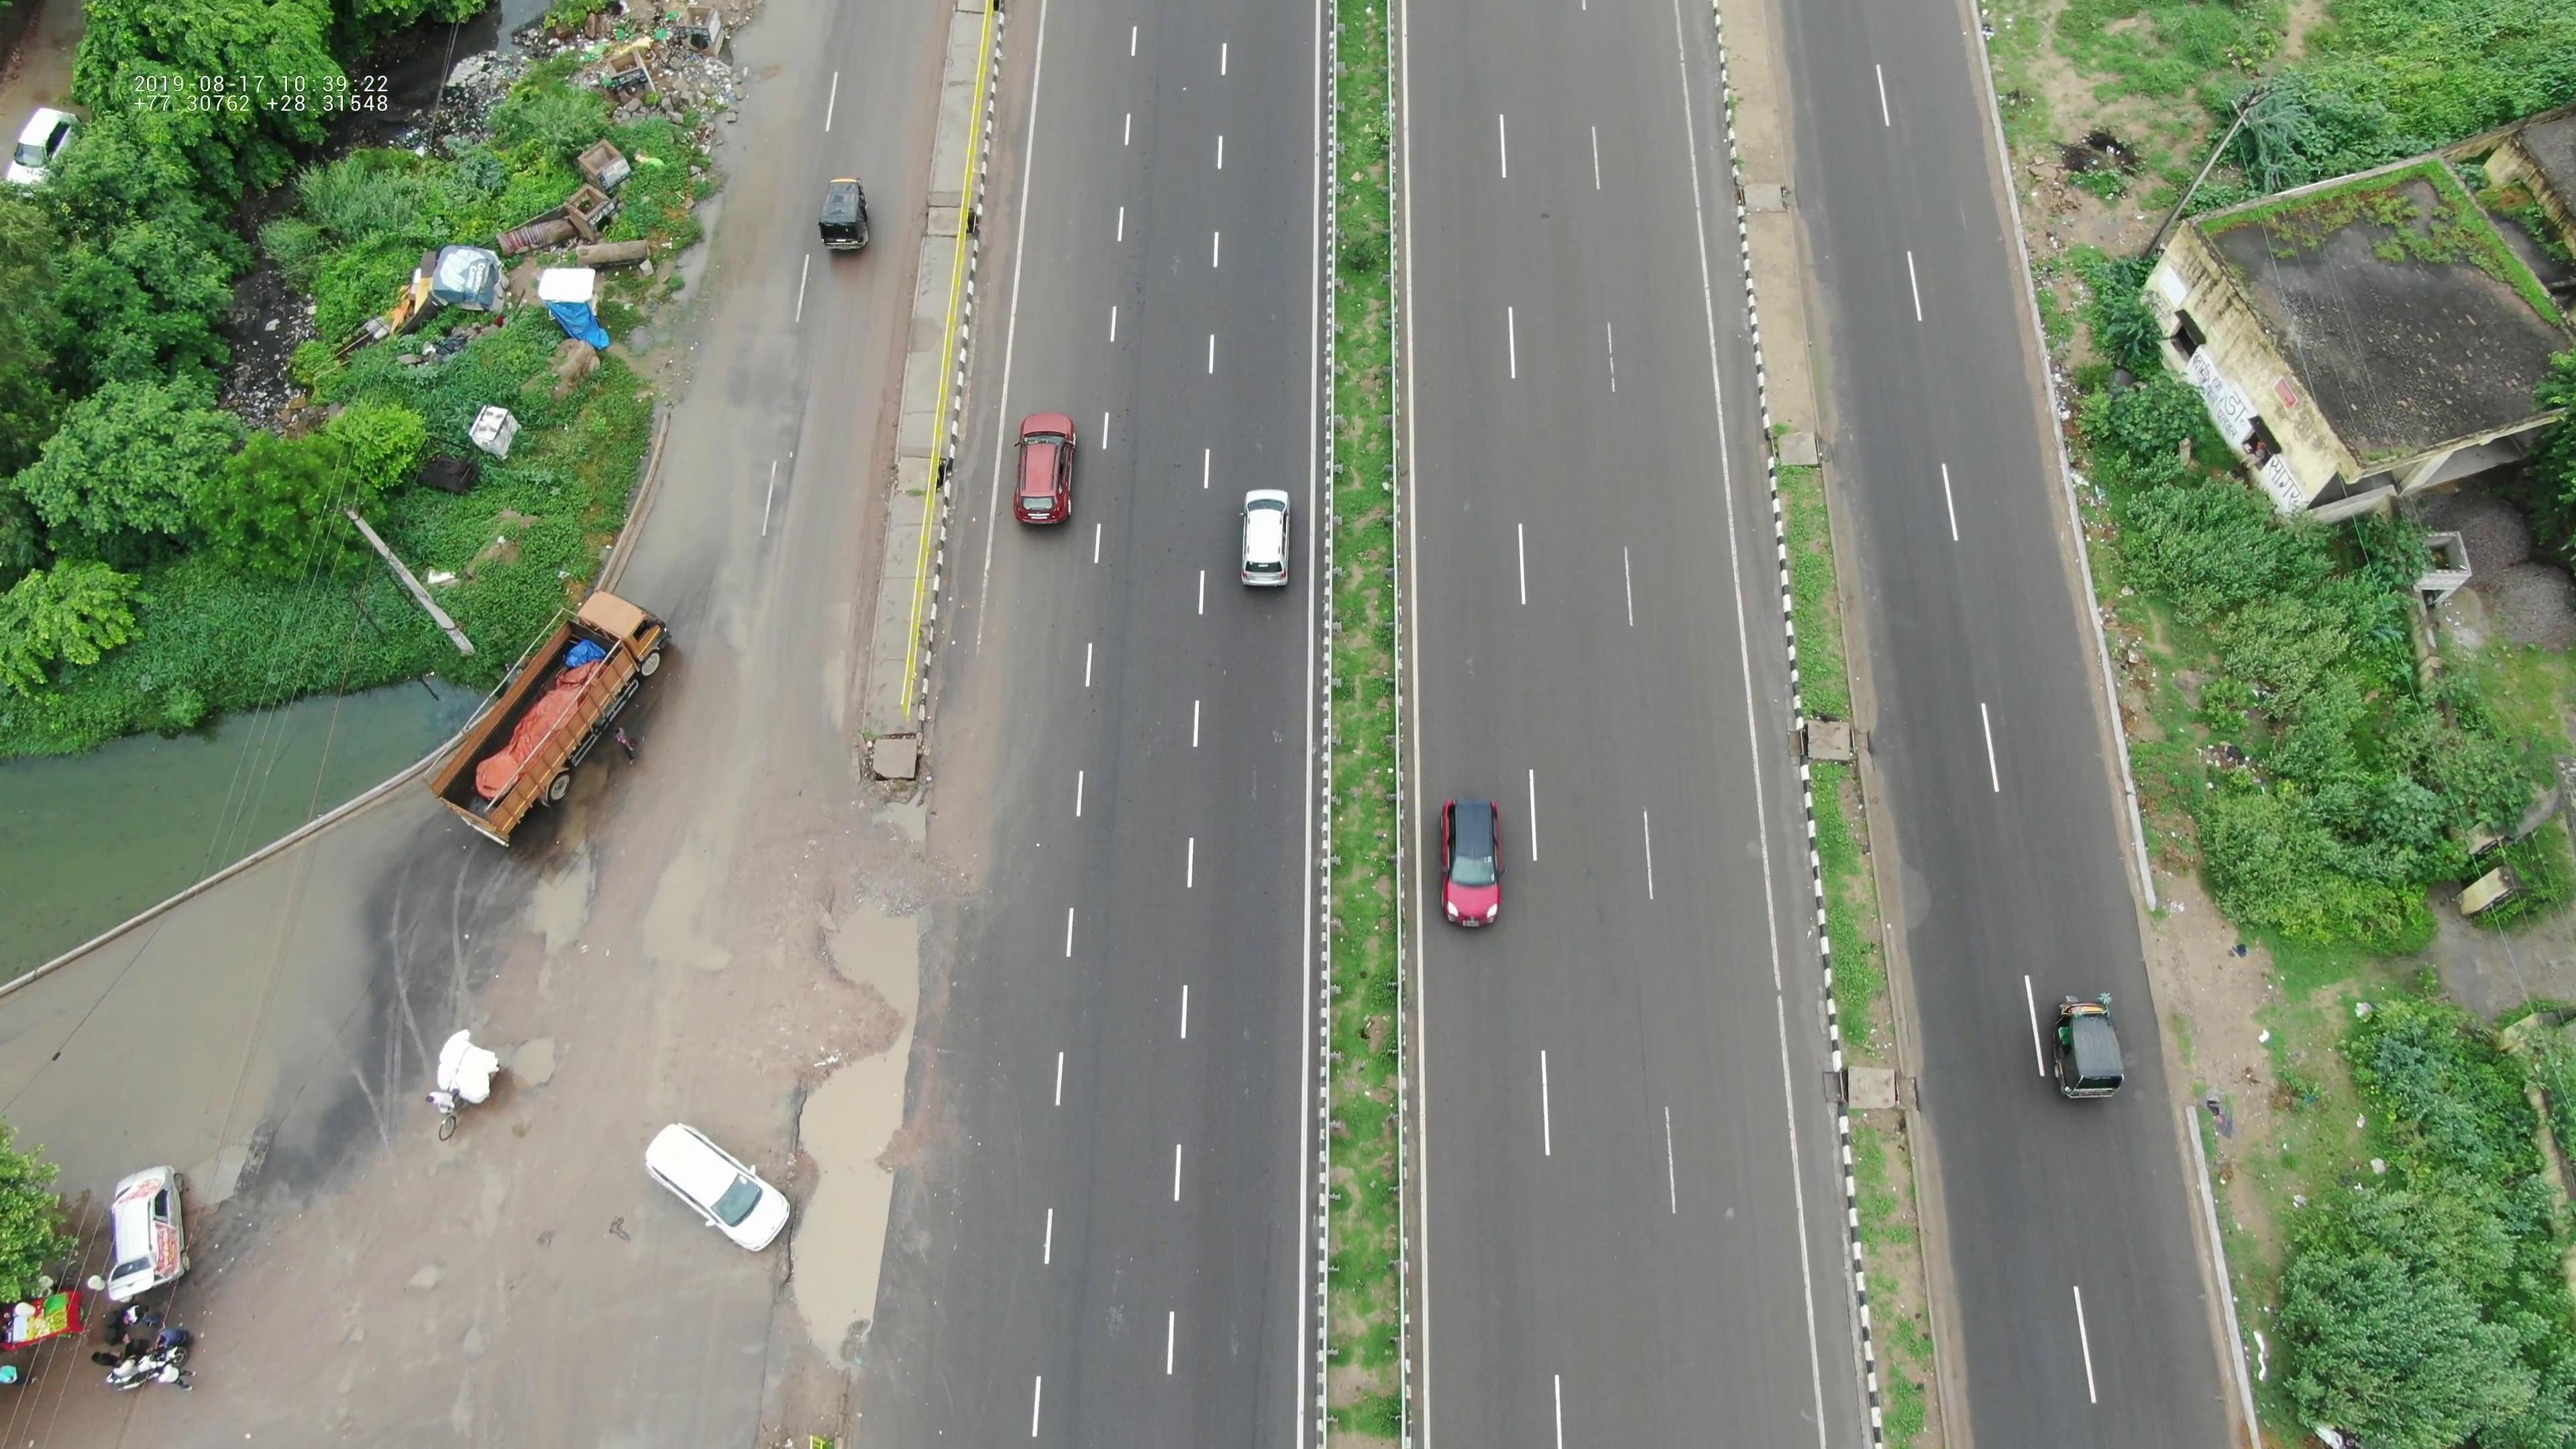Potholes: (750, 883, 938, 1376), (377, 1157, 525, 1408), (483, 851, 603, 1122)
Waterlogging: (625, 288, 793, 580)
